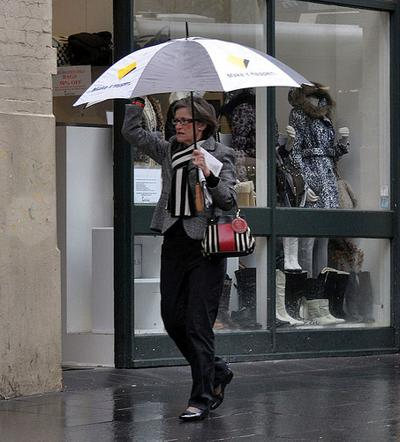person: (124, 96, 240, 426)
